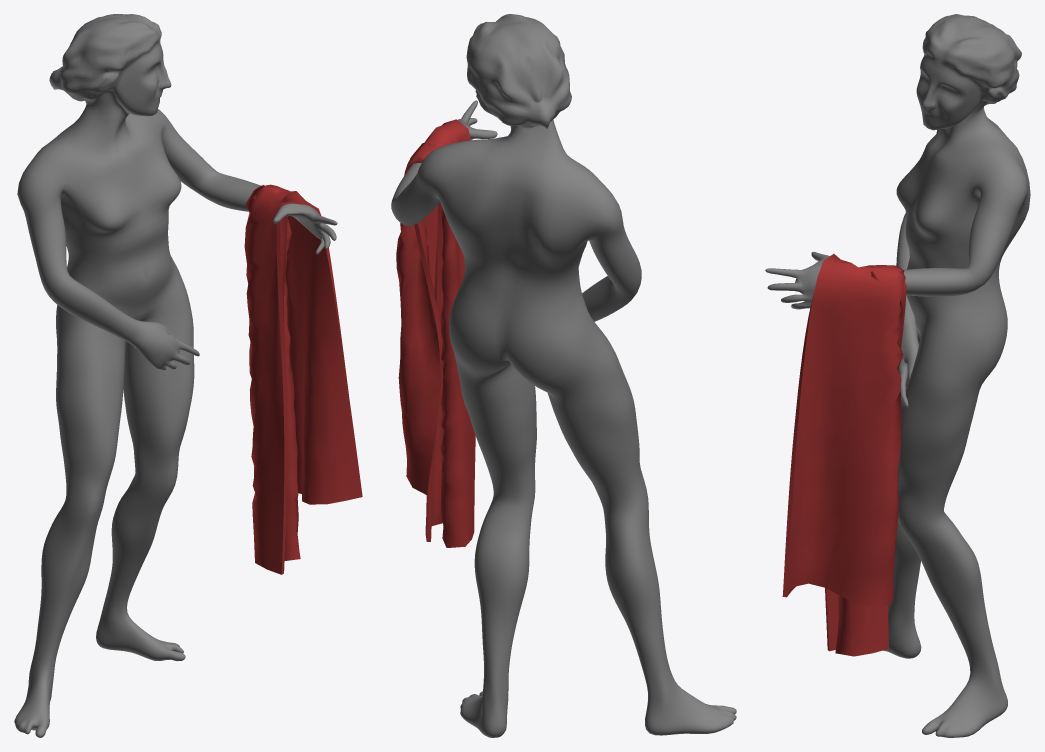
File: SM_sculpture_woman.fbx
The picture shows the model from 3 angles, left to right: view 1: azimuth 30°, elevation 25°; view 2: azimuth 150°, elevation 25°; view 3: azimuth 270°, elevation 25°; orthographic projection. The views are drawn at different scales.
Visible parts, largest first — view 1: 5787; view 2: 5787; view 3: 5787.
Boxes of the visible parts, left/top/right/bottom form: 5787: left=14, top=14, right=362, bottom=737; 5787: left=391, top=14, right=736, bottom=737; 5787: left=765, top=14, right=1030, bottom=737.
Bounding box in the file's own units: 34.93 × 69.33 × 24.01.
